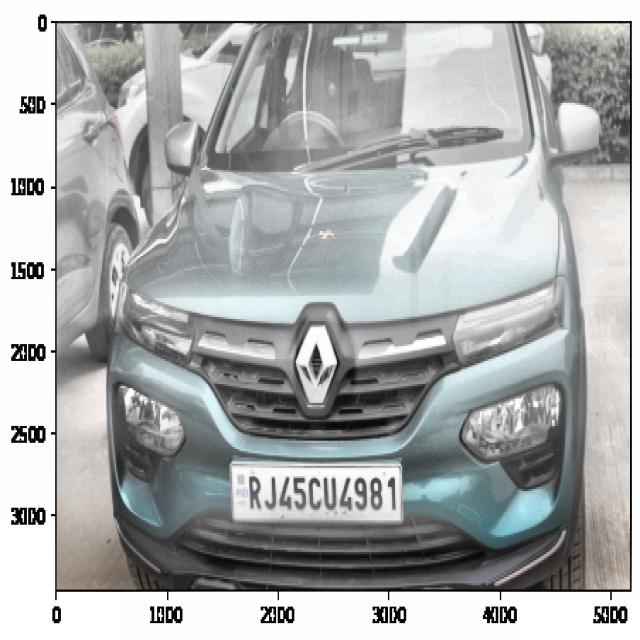license_plate: (239, 462, 400, 527)
